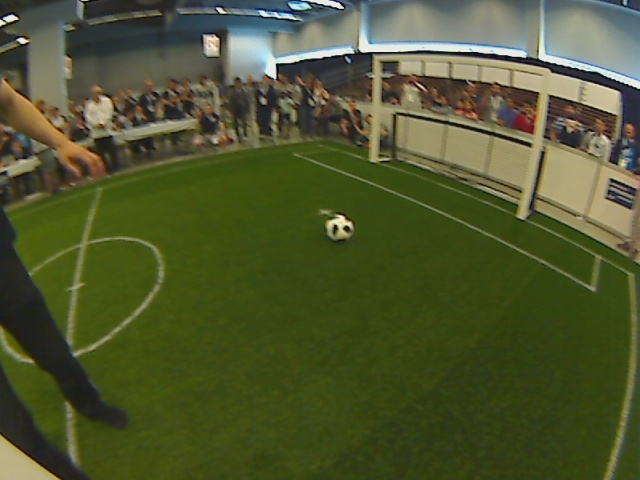ball: (321, 211, 355, 242)
